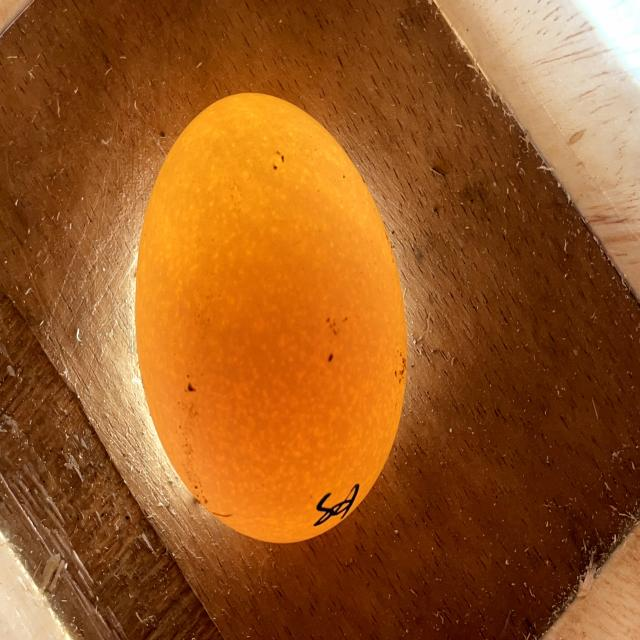infertile: (136, 93, 406, 543)
